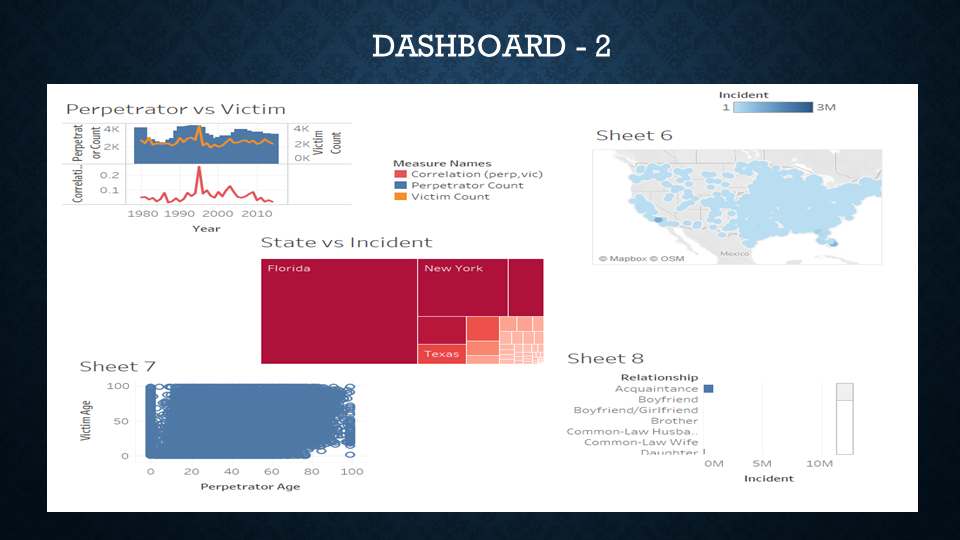

The dashboard page shown, as its layout file describes it:
{"tool":"tableau","page":{"name":"Dashboard 2","canvas":[1000,800],"ordinal":1},"visuals":[{"type":"worksheet","title":"Sheet 6","mark":"Automatic","param":"[federated.1hzmswl0txp79417dtnc20bq087f].[sum:Incident:qk]","box":[771,6,140,88]},{"type":"worksheet","title":"Perpetrator vs Victim","mark":"Automatic","rows":["Perpetrator Count","Victim Count","Calculation_2031686428971925504"],"cols":["Year"],"box":[17,23,333,266]},{"type":"worksheet","title":"Sheet 6","mark":"Automatic","box":[626,72,333,266]},{"type":"worksheet","title":"Perpetrator vs Victim","mark":"Automatic","rows":["Perpetrator Count","Victim Count","Calculation_2031686428971925504"],"cols":["Year"],"param":"[federated.1hzmswl0txp79417dtnc20bq087f].[:Measure Names]","box":[396,136,179,85]},{"type":"worksheet","title":"State vs Incident","mark":"Automatic","box":[241,272,333,266]},{"type":"worksheet","title":"Sheet 8","mark":"Automatic","rows":["Relationship"],"cols":["Incident"],"box":[593,489,333,266]},{"type":"worksheet","title":"Sheet 7","mark":"Automatic","rows":["Victim Age"],"cols":["Perpetrator Age"],"box":[33,504,333,266]}]}

Visuals, with their boxes on the page's 1000x800 design canvas (x1, y1, x2, y2). These are canvas units, not pixel positions in the 960x540 screenshot, which may show the page scaled, cropped or inside an application window:
"Sheet 6" worksheet: [x1=771, y1=6, x2=911, y2=94]
"Perpetrator vs Victim" worksheet: [x1=17, y1=23, x2=350, y2=289]
"Sheet 6" worksheet: [x1=626, y1=72, x2=959, y2=338]
"Perpetrator vs Victim" worksheet: [x1=396, y1=136, x2=575, y2=221]
"State vs Incident" worksheet: [x1=241, y1=272, x2=574, y2=538]
"Sheet 8" worksheet: [x1=593, y1=489, x2=926, y2=755]
"Sheet 7" worksheet: [x1=33, y1=504, x2=366, y2=770]
